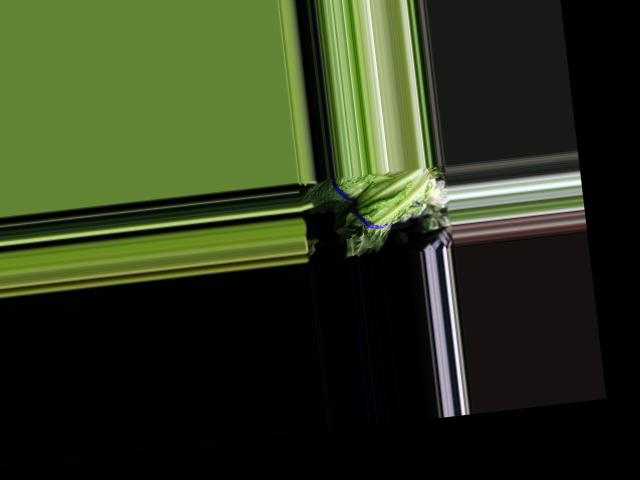lettuce: (331, 167, 431, 252)
